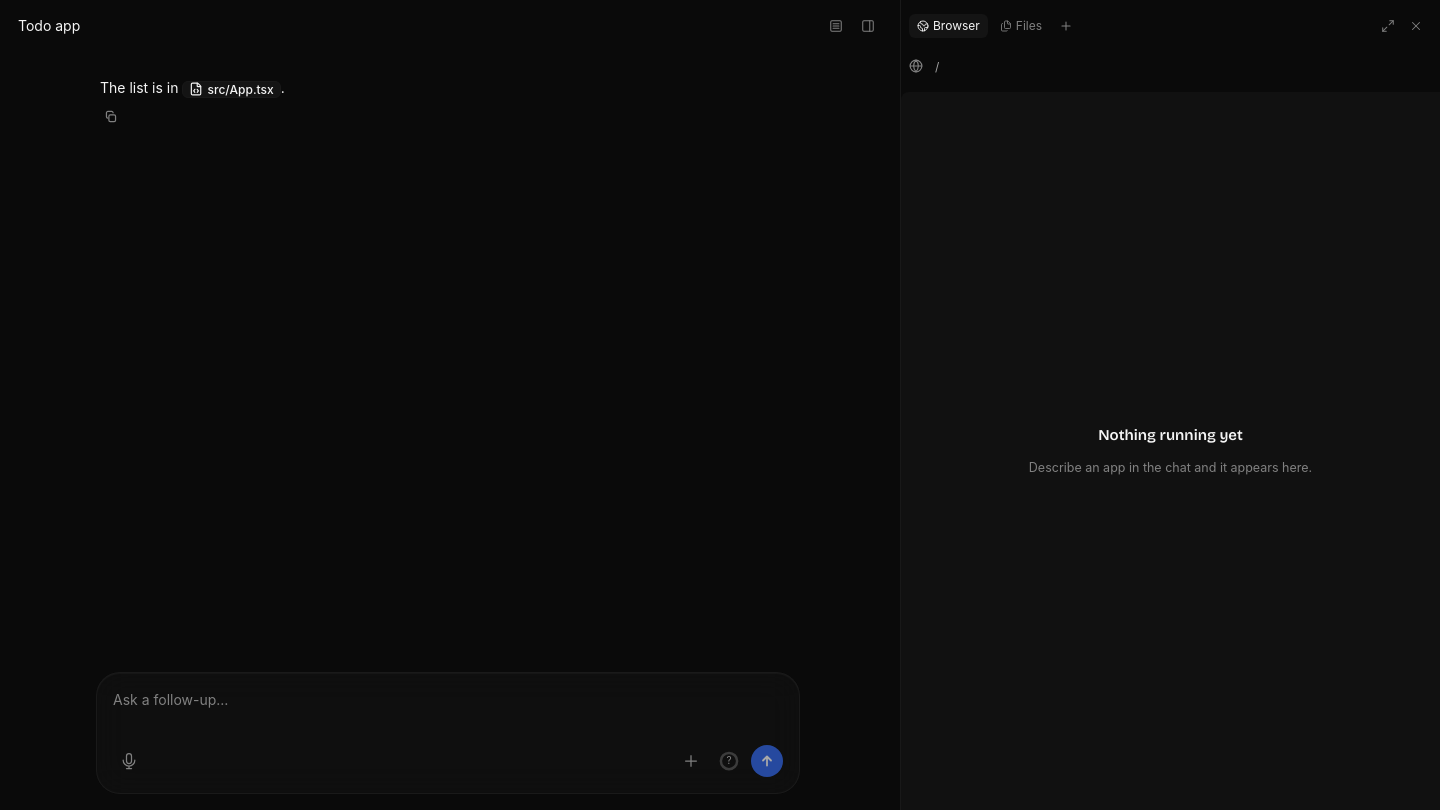
Test case: AppShell › opens a file the agent mentions in the Code tab
What coordinates should you click on to do the following:
click the button with aria-label "Open src/App.tsx"
I would click on:
 (232, 89)
Its box is [182,81,281,98].
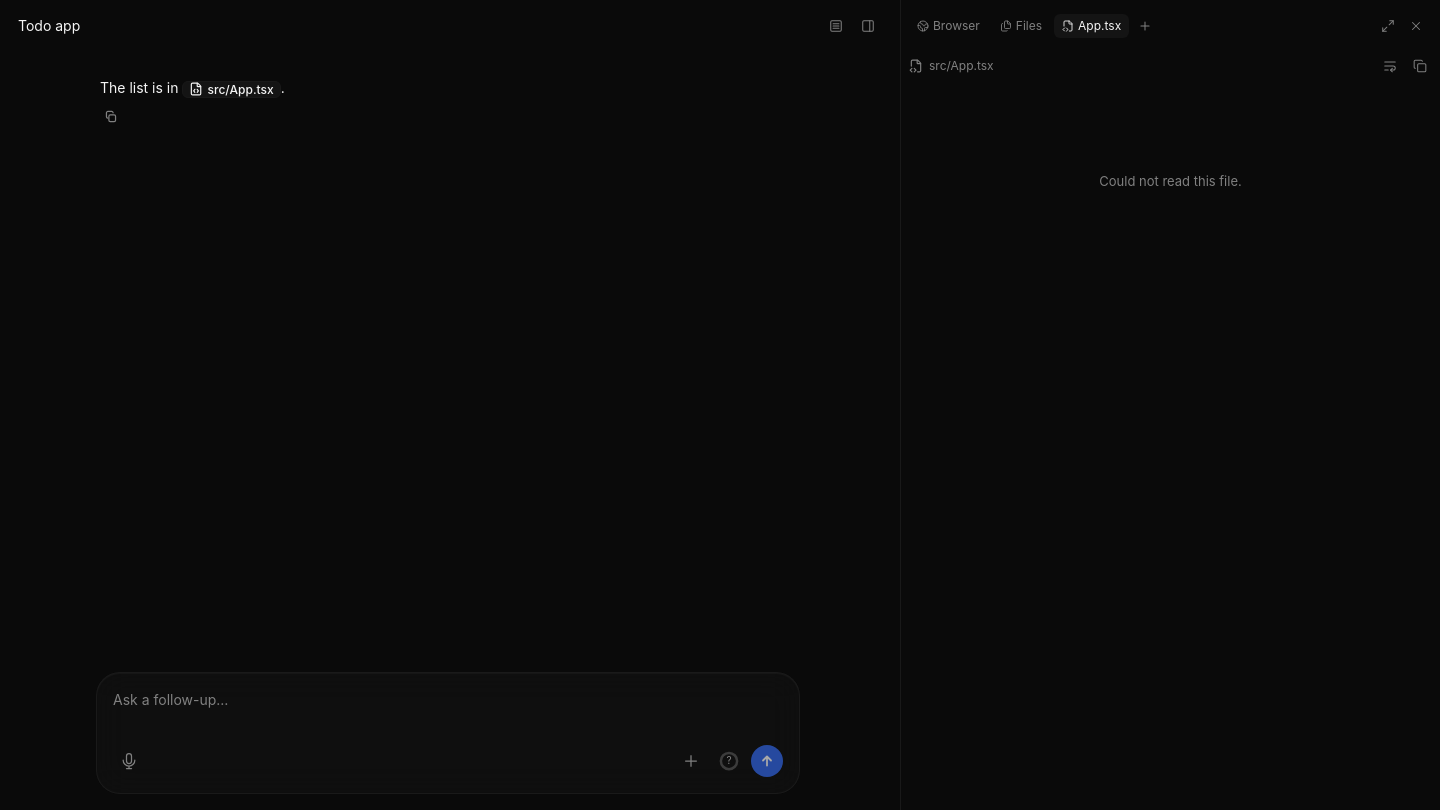
expect the element named "src/App.tsx (read-only)" is shown: met, box [909,54,1432,189]
